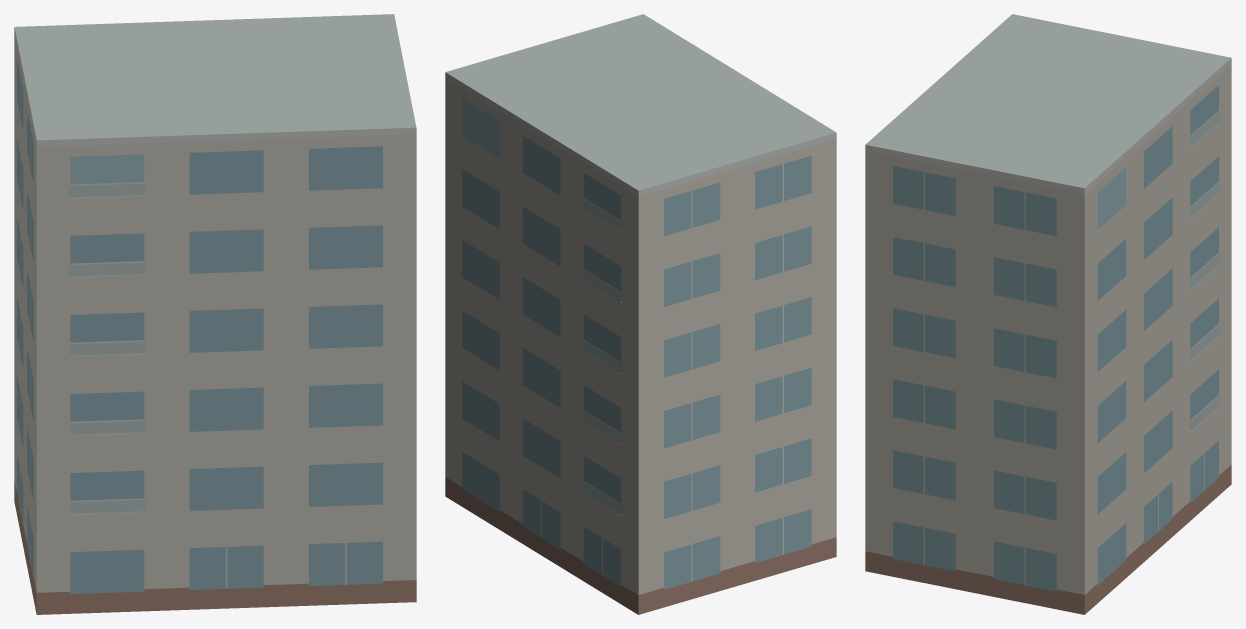
Rendered from survey-upis-32533053.glb.
3 renders of one model, left to right at view 1: azimuth 30°, elevation 25°; view 2: azimuth 150°, elevation 25°; view 3: azimuth 270°, elevation 25°, orthographic. The views are drawn at different scales.
Visible parts, largest first — view 1: survey-upis-32533053.tmp; view 2: survey-upis-32533053.tmp; view 3: survey-upis-32533053.tmp.
Boxes of the visible parts, box(x1,y1,x2,y2) form: survey-upis-32533053.tmp: box(14, 14, 416, 614); survey-upis-32533053.tmp: box(445, 14, 836, 614); survey-upis-32533053.tmp: box(865, 14, 1231, 614).
Size of the model in its own units: 15.01 by 17.1 by 13.32.
